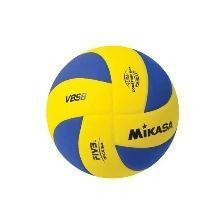Sports-Ball: (45, 44, 178, 179)
